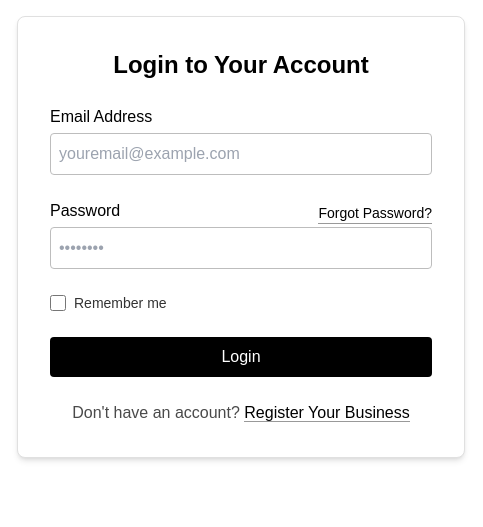
Test: Login Component › clears errors when user types in a field with error
# Submit empty form to trigger errors
Click the button "Login": click(241, 357) [50,337,432,377]
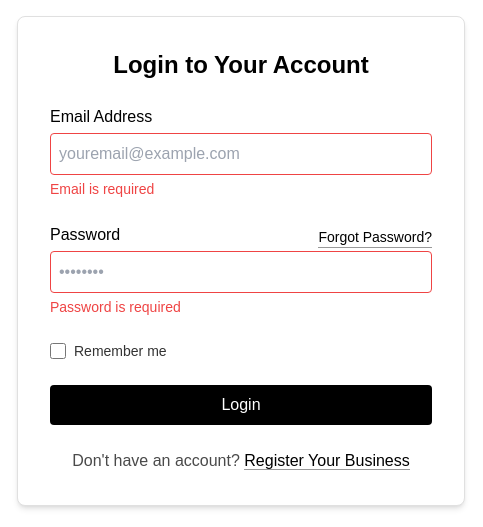
expect the text "Email is required" is shown: met, box [50,181,154,197]
# Type in the email field
In the field labelled "Email Address": (241, 154) [50,133,432,175], type "test@example.com"
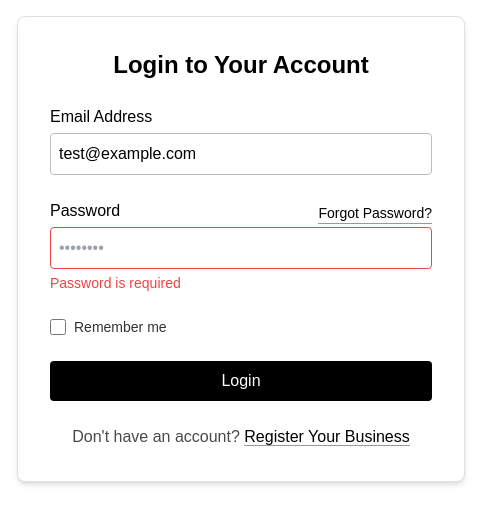
expect the text "Email is required" is gone: met
